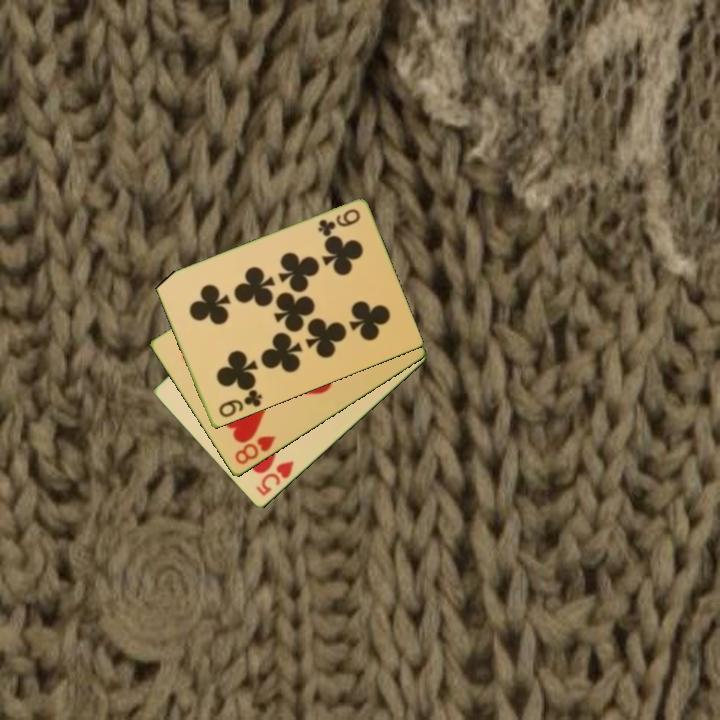5h: (252, 457, 297, 500)
8h: (231, 432, 279, 468)
9c: (215, 386, 265, 421), (314, 206, 363, 240)
